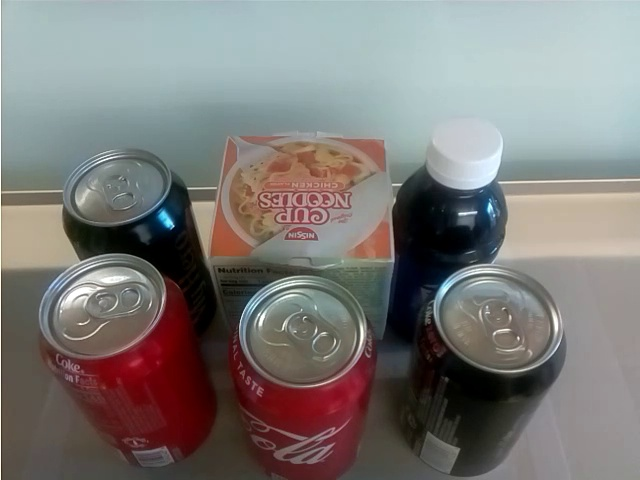cocacola: (25, 255, 219, 474), (401, 270, 564, 480), (233, 272, 375, 477), (54, 149, 192, 252)
juice: (393, 120, 516, 266)
noodles: (199, 122, 391, 260)
